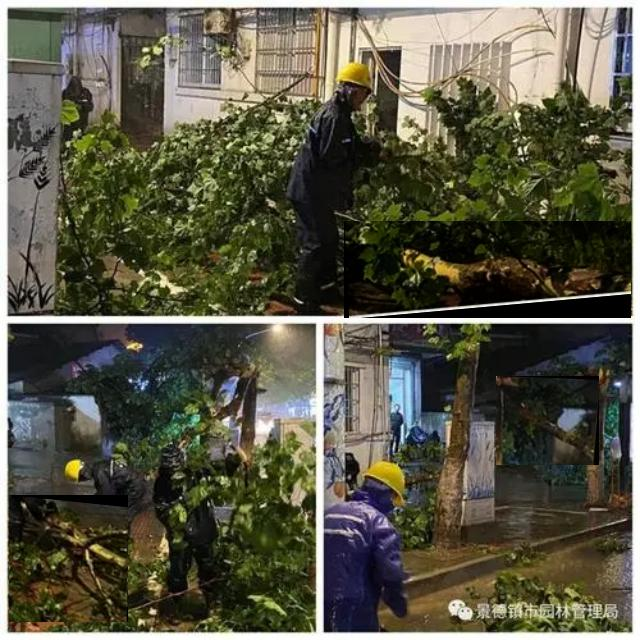Fallen Tree: (344, 221, 632, 319), (9, 495, 129, 623), (496, 376, 600, 466)
